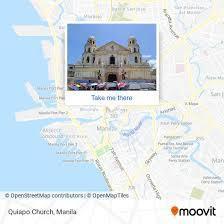quiapo_church_quiapo_manila: (77, 30, 150, 82)
